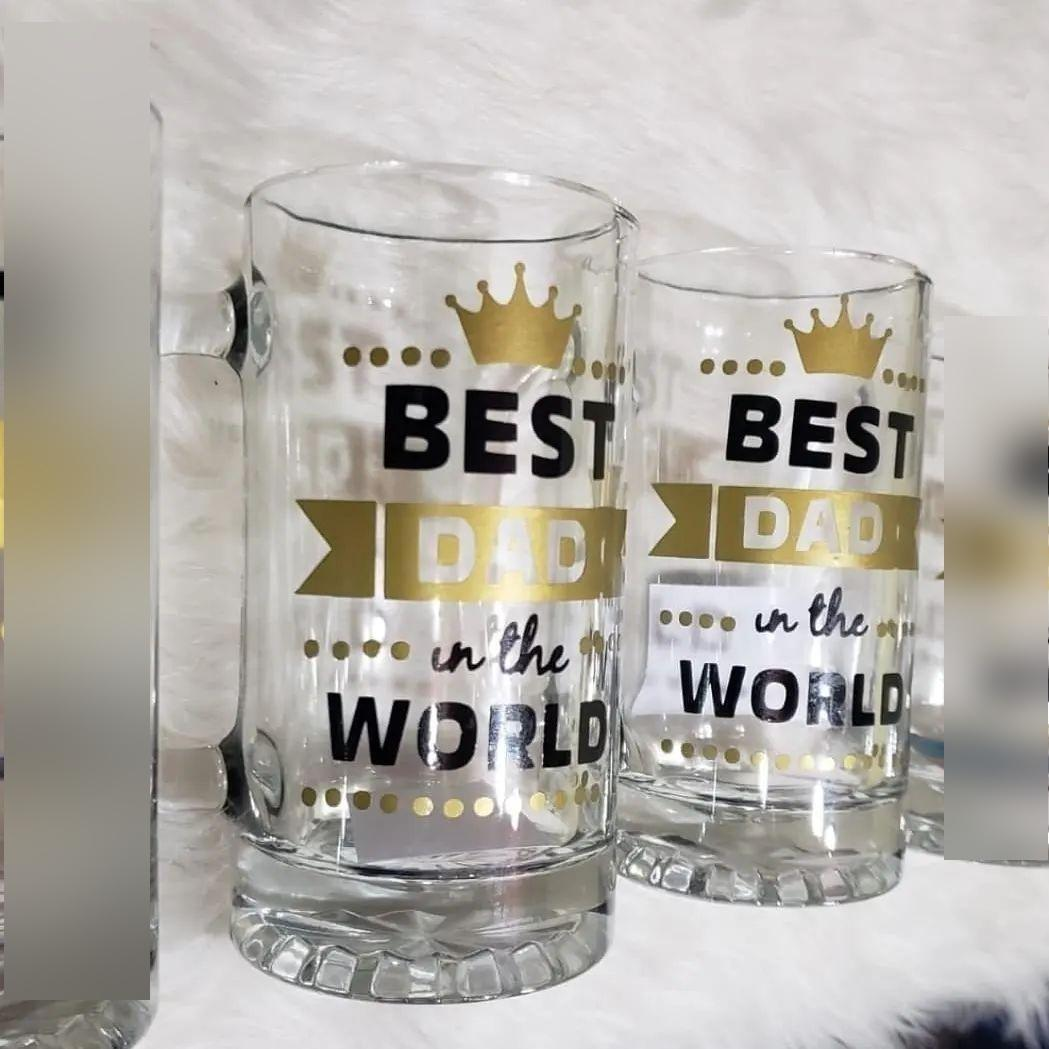glass-mug: (153, 157, 629, 1006), (628, 235, 938, 917)
